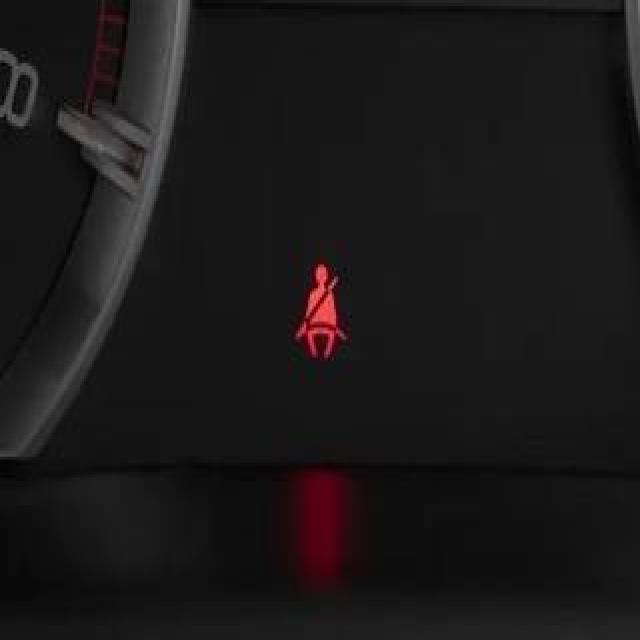kontrolka: (287, 248, 358, 368)
